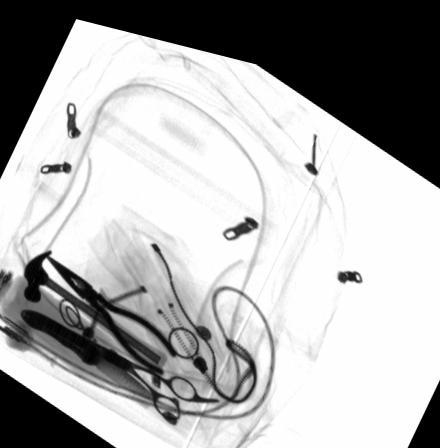Hammer: (22, 246, 168, 362)
Knife: (17, 308, 165, 399)
Pliers: (43, 251, 176, 366)
Scissors: (30, 309, 220, 413)
